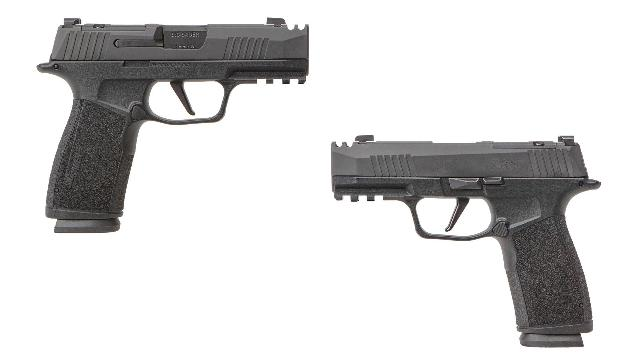handgun: (32, 12, 314, 236), (328, 129, 604, 350)
